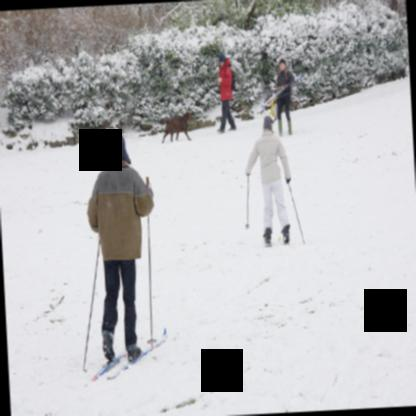backpack: (286, 69, 295, 89), (231, 71, 235, 90)
